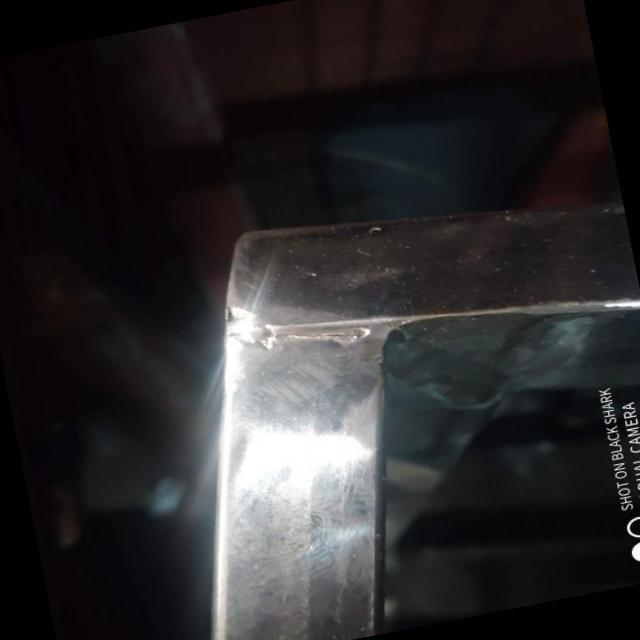defect: (273, 331, 367, 339)
